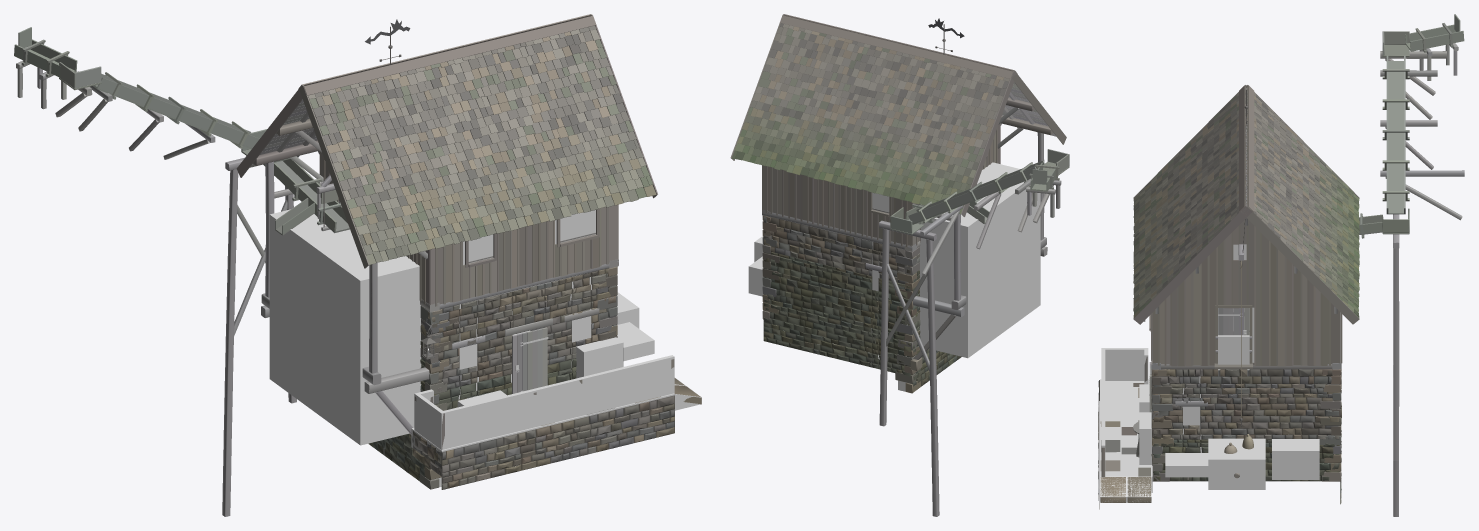
Rendered from mill.glb.
The picture shows the model from 3 angles, left to right: view 1: azimuth 30°, elevation 25°; view 2: azimuth 150°, elevation 25°; view 3: azimuth 270°, elevation 25°; orthographic projection. The views are drawn at different scales.
Visible parts, largest first — view 1: Roof shingles / mill_shingle, Wheel, Stone walls, Terrace kerb, Wall boards, Fence 0, Flume / mill_wet_oak, Roof shingles / tav_board, Flume trestles / tav_oak, Wheel cradle / tav_oak, Wet stone, Corner stones / tav_stone (+9 smaller); view 2: Roof shingles / mill_shingle, Wheel, Wet stone, Flume trestles / tav_oak, Wall boards, Stone walls, Roof shingles / tav_board, Flume / mill_wet_oak, Corner stones / tav_stone, Wheel cradle / tav_oak, Roof timbers / tav_oak, Sill beams / tav_oak (+2 smaller); view 3: Roof shingles / mill_shingle, Wall boards, Stone walls, Flume / mill_wet_oak, Roof shingles / tav_board, Flume trestles / tav_oak, Corner stones / tav_stone, Terrace ground, Cart block, Terrace, Wet stone, Flour pallet (+10 smaller).
Part boxes in pixels (bbox=[...]): Roof shingles / mill_shingle: bbox=[308, 17, 656, 264]; Wheel: bbox=[269, 209, 421, 445]; Stone walls: bbox=[420, 268, 616, 391]; Terrace kerb: bbox=[412, 395, 674, 489]; Wall boards: bbox=[319, 151, 618, 306]; Fence 0: bbox=[439, 355, 674, 449]; Flume / mill_wet_oak: bbox=[14, 27, 349, 235]; Roof shingles / tav_board: bbox=[236, 14, 657, 268]; Flume trestles / tav_oak: bbox=[16, 60, 335, 516]; Wheel cradle / tav_oak: bbox=[261, 162, 429, 434]; Wet stone: bbox=[368, 338, 576, 481]; Corner stones / tav_stone: bbox=[420, 266, 617, 489]; Roof shingles / mill_shingle: bbox=[732, 16, 1009, 214]; Wheel: bbox=[919, 162, 1040, 358]; Wet stone: bbox=[763, 252, 961, 386]; Flume trestles / tav_oak: bbox=[879, 178, 1060, 516]; Wall boards: bbox=[762, 123, 1000, 246]; Stone walls: bbox=[763, 216, 919, 284]; Roof shingles / tav_board: bbox=[730, 14, 1066, 216]; Flume / mill_wet_oak: bbox=[890, 149, 1069, 234]; Corner stones / tav_stone: bbox=[762, 215, 922, 393]; Wheel cradle / tav_oak: bbox=[913, 132, 1046, 359]; Roof timbers / tav_oak: bbox=[915, 97, 1050, 205]; Sill beams / tav_oak: bbox=[762, 212, 920, 249]; Roof shingles / mill_shingle: bbox=[1133, 87, 1359, 317]; Wall boards: bbox=[1151, 219, 1342, 366]; Stone walls: bbox=[1151, 369, 1341, 439]; Flume / mill_wet_oak: bbox=[1359, 14, 1464, 238]; Roof shingles / tav_board: bbox=[1133, 85, 1359, 324]; Flume trestles / tav_oak: bbox=[1380, 43, 1464, 516]; Corner stones / tav_stone: bbox=[1152, 369, 1341, 481]; Terrace ground: bbox=[1100, 379, 1152, 492]; Cart block: bbox=[1208, 438, 1265, 489]; Terrace: bbox=[1100, 383, 1151, 502]; Wet stone: bbox=[1151, 372, 1341, 504]; Flour pallet: bbox=[1272, 439, 1319, 479].
Size of the model in its own units: 15.1 by 16.07 by 11.5.
